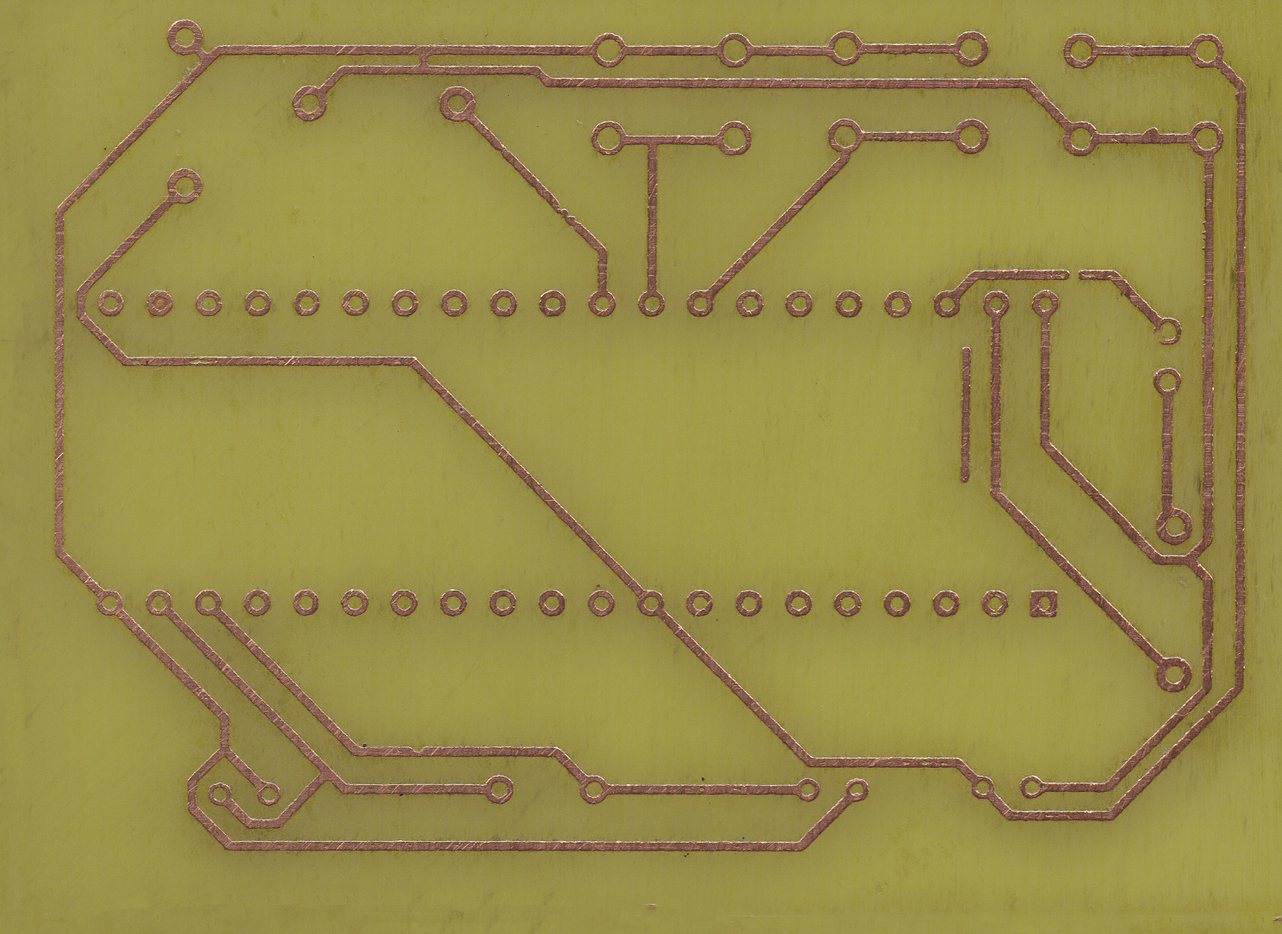missing_hole: (1153, 317, 1182, 346)
mouse_bite: (407, 745, 427, 756), (556, 204, 565, 211), (566, 211, 575, 218)
open_circuit: (1061, 269, 1089, 281)
short: (414, 45, 433, 74)
spur: (1142, 126, 1161, 145)
spurious_copper: (960, 346, 972, 484)
